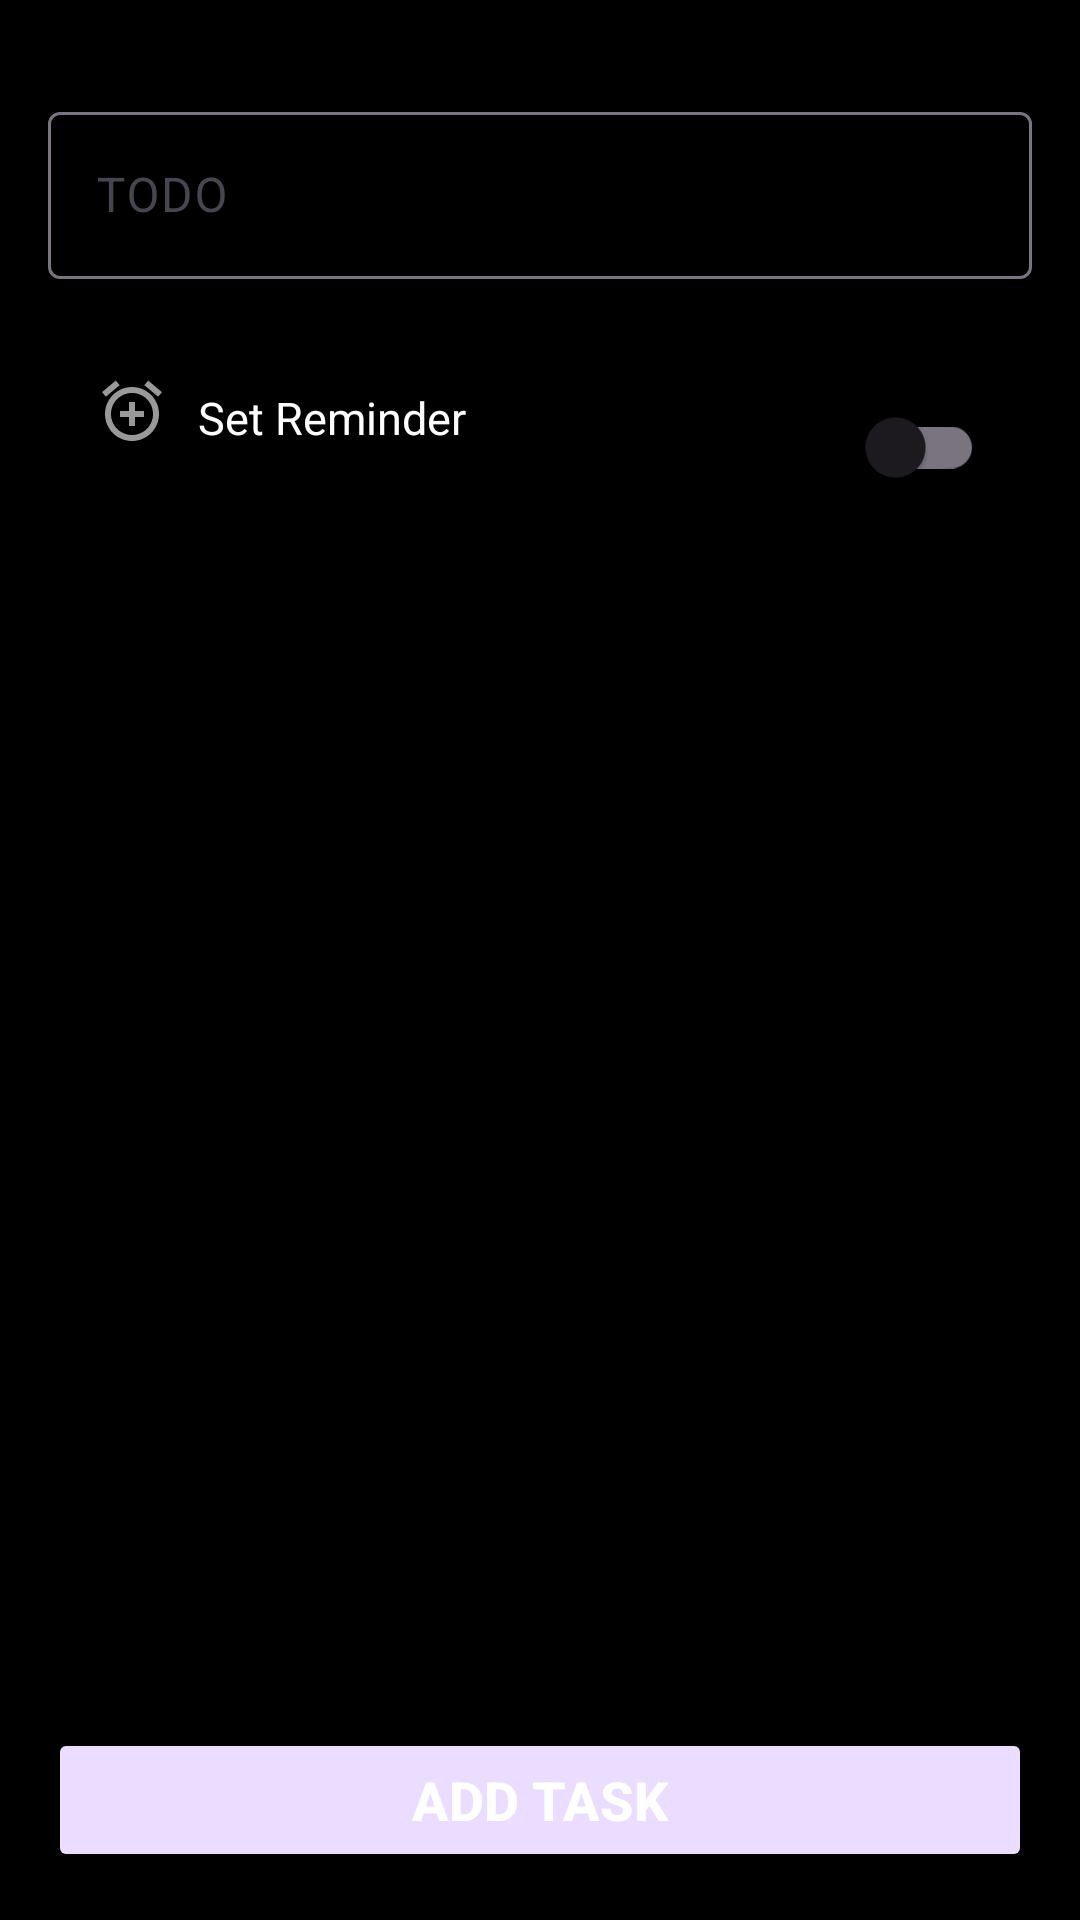

Locate icon controls on the screen. Image size 1080 × 1920, boxes as bbox=(x1, y1, x2, y2).
alarm add: bbox=(102, 381, 162, 441)
